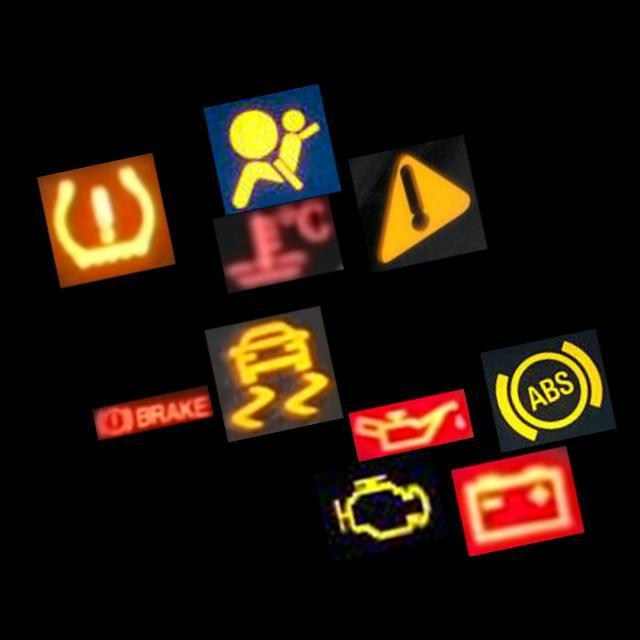Central Warning lamp: (348, 134, 488, 272)
Engine cooling system: (212, 194, 343, 293)
